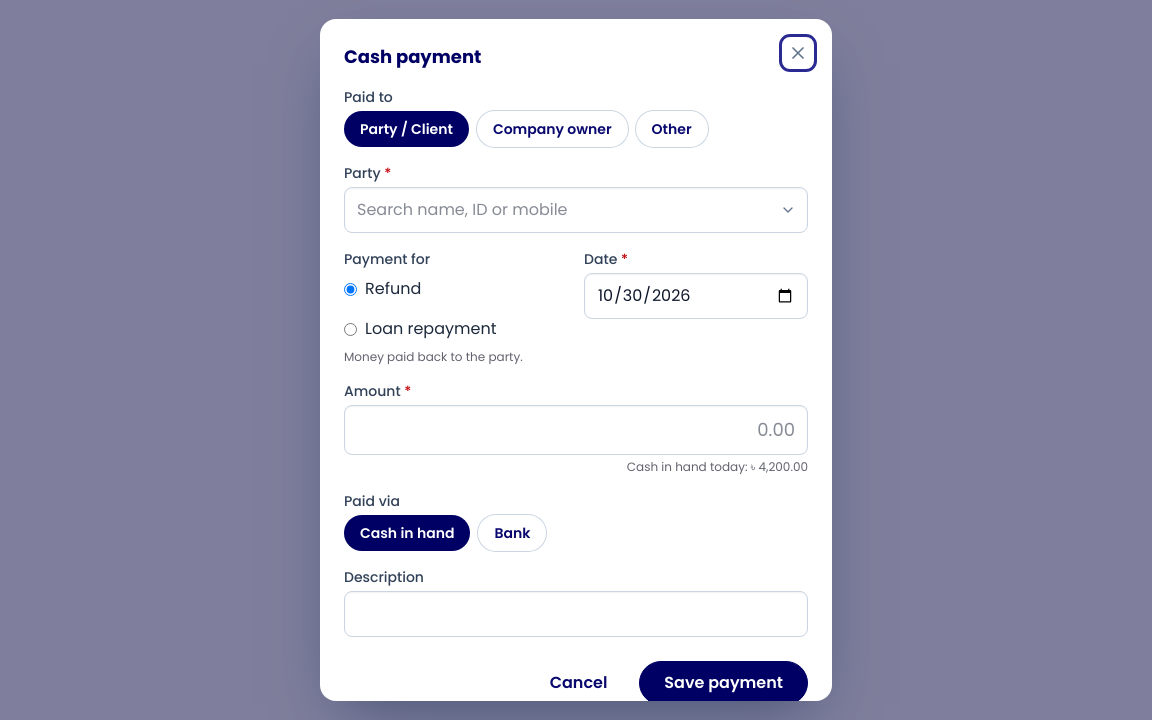
Test case: CashPaymentFormDialog › offers the payment types of each payee
The width and height of the screenshot is (1152, 720).
Click the button "Company owner" at (552, 129), box [477,111,628,147]
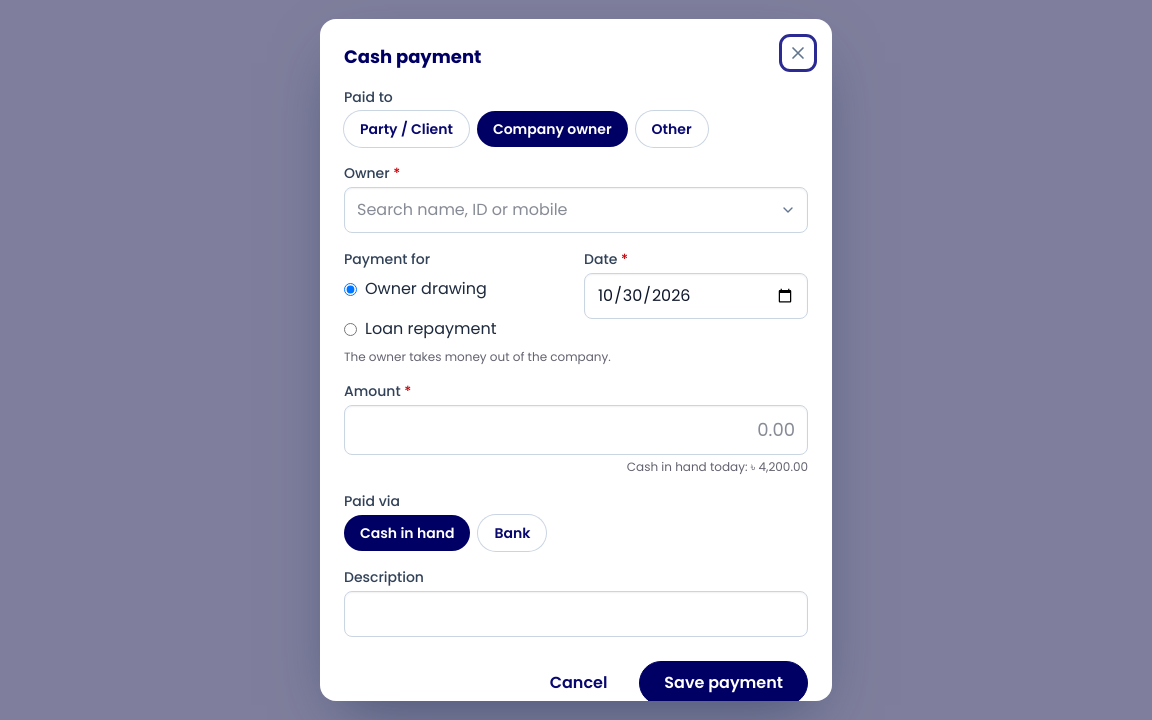
Click the button "Other" at (672, 129), box [636,111,708,147]
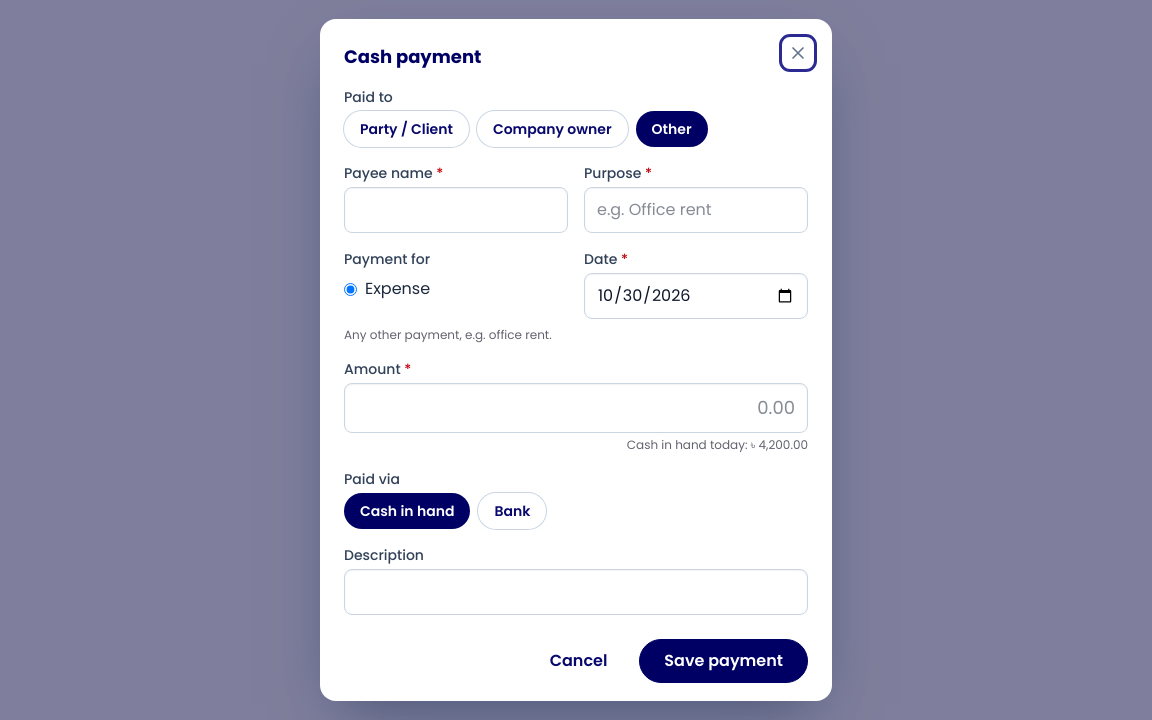
Check: the element showing "Purpose *" is shown, box [584,163,808,233]
